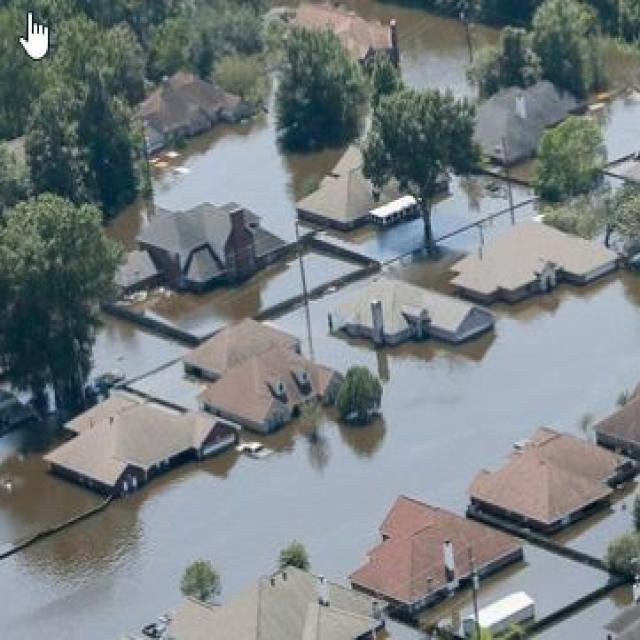flood: (0, 250, 640, 640), (151, 109, 343, 240), (394, 175, 538, 294), (348, 0, 500, 100), (482, 542, 635, 640), (0, 422, 100, 550), (92, 315, 200, 402), (551, 483, 636, 564), (605, 38, 640, 160), (325, 219, 423, 260)
house: (38, 368, 238, 496), (343, 486, 520, 609), (461, 419, 631, 532), (146, 568, 389, 640), (453, 220, 616, 311), (142, 196, 276, 296), (195, 325, 314, 434), (330, 279, 495, 349), (150, 78, 241, 141), (302, 168, 376, 234), (472, 96, 538, 166), (595, 391, 640, 450)
